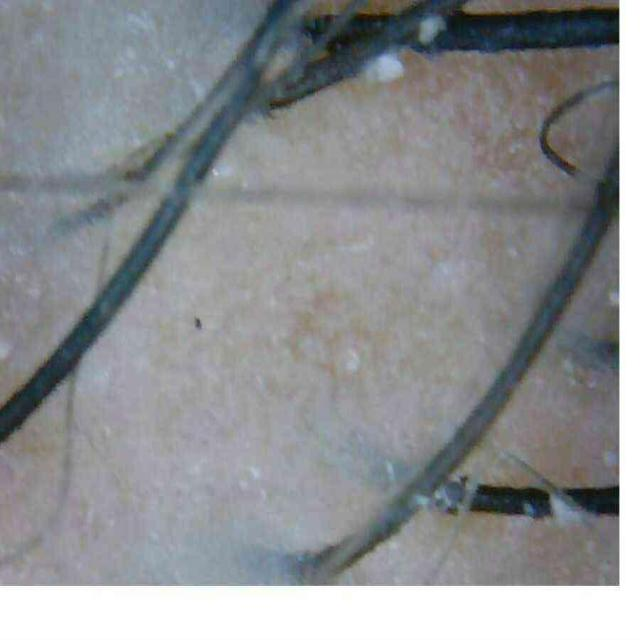d: (543, 487, 575, 522), (416, 12, 447, 48), (369, 52, 404, 80), (602, 443, 619, 471), (606, 283, 619, 309)
